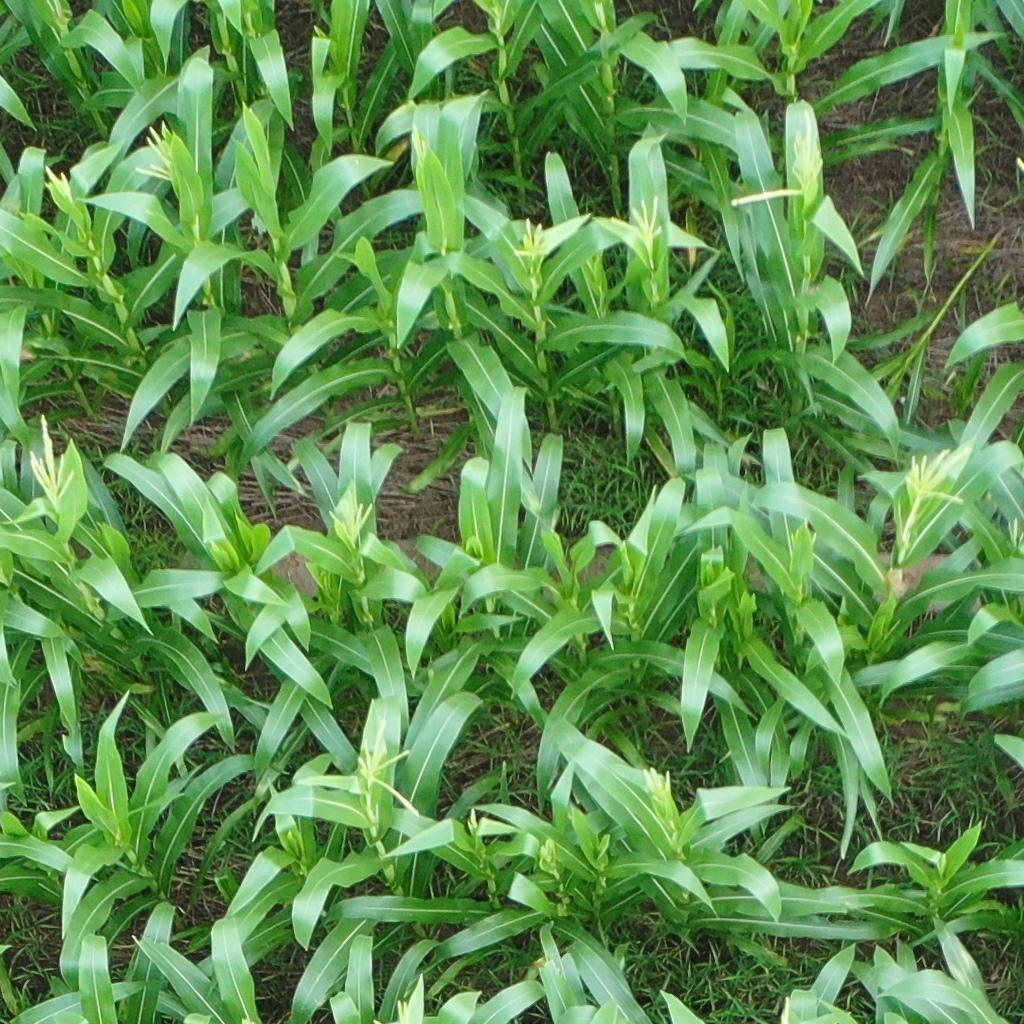Tassel: (725, 107, 830, 207), (351, 712, 425, 819), (20, 410, 79, 512), (903, 440, 975, 517), (323, 482, 377, 546), (606, 197, 667, 253), (127, 123, 182, 181), (519, 218, 552, 262), (641, 762, 673, 806), (42, 166, 75, 201), (783, 515, 820, 542), (410, 122, 431, 169), (1006, 515, 1024, 551), (536, 836, 558, 862), (466, 808, 481, 835)
